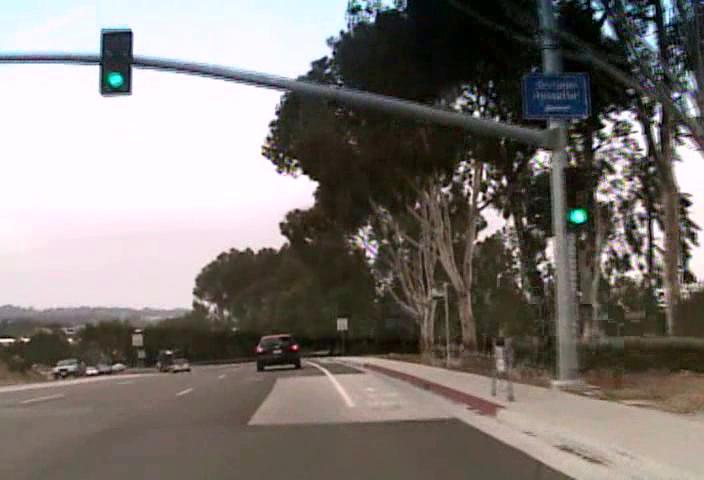speedLimitUrdbl: (336, 317, 348, 330)
